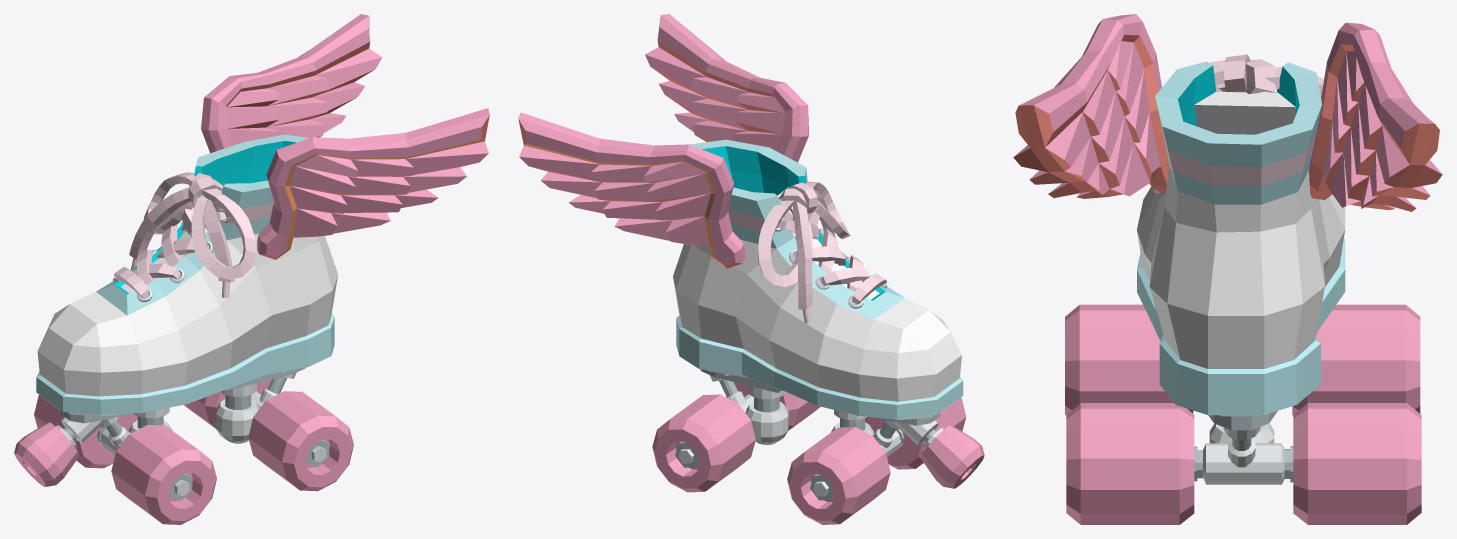
The model's file is roller_skate_with_wings.glb.
The picture shows the model from 3 angles, left to right: view 1: azimuth 30°, elevation 25°; view 2: azimuth 150°, elevation 25°; view 3: azimuth 270°, elevation 25°; orthographic projection. The views are drawn at different scales.
Parts seen in each view (by area): view 1: mesh_1109177091_material_21___651_0, mesh_1398213399_material_7___651_0, mesh_629732502_material_7___651_0, mesh_1109177091_material_3___651_0, mesh_1619868426_material_7___651_0, mesh_802483144_material_7___651_0, mesh_1107867113_material_6___651_0, mesh_1730448082_material_7___651_0, mesh_1109177091_material_4___651_0, mesh_991260271_material_7___651_0, mesh_629732502_material_8___651_0, mesh_1271087452_material_15___651_0 (+9 smaller); view 2: mesh_1109177091_material_21___651_0, mesh_629732502_material_7___651_0, mesh_1398213399_material_7___651_0, mesh_1109177091_material_3___651_0, mesh_1668995057_material_7___651_0, mesh_991260271_material_7___651_0, mesh_1109177091_material_4___651_0, mesh_1730448082_material_7___651_0, mesh_943479247_material_6___651_0, mesh_802483144_material_7___651_0, mesh_1271087452_material_15___651_0, mesh_591993997_material_6___651_0 (+8 smaller); view 3: mesh_1109177091_material_21___651_0, mesh_1109177091_material_3___651_0, mesh_1668995057_material_7___651_0, mesh_1619868426_material_7___651_0, mesh_1398213399_material_7___651_0, mesh_629732502_material_7___651_0, mesh_991260271_material_7___651_0, mesh_802483144_material_7___651_0, mesh_629732502_material_8___651_0, mesh_1398213399_material_8___651_0, mesh_1999533418_material_15___651_0, mesh_1109177091_material_6___651_0 (+8 smaller).
Part boxes in pixels (x1,y1,x2,y2): mesh_1109177091_material_21___651_0: (37,179,338,396); mesh_1398213399_material_7___651_0: (257,108,489,257); mesh_629732502_material_7___651_0: (201,14,382,153); mesh_1109177091_material_3___651_0: (36,134,334,414); mesh_1619868426_material_7___651_0: (248,391,353,491); mesh_802483144_material_7___651_0: (111,425,216,524); mesh_1107867113_material_6___651_0: (191,188,256,279); mesh_1730448082_material_7___651_0: (14,422,79,486); mesh_1109177091_material_4___651_0: (115,141,296,294); mesh_991260271_material_7___651_0: (34,394,137,468); mesh_629732502_material_8___651_0: (226,17,374,137); mesh_1271087452_material_15___651_0: (216,383,259,441); mesh_1109177091_material_21___651_0: (673,187,961,401); mesh_629732502_material_7___651_0: (518,112,746,265); mesh_1398213399_material_7___651_0: (645,14,808,162); mesh_1109177091_material_3___651_0: (676,139,963,419); mesh_1668995057_material_7___651_0: (652,394,755,492); mesh_991260271_material_7___651_0: (787,427,890,524); mesh_1109177091_material_4___651_0: (702,146,885,300); mesh_1730448082_material_7___651_0: (920,425,984,488); mesh_943479247_material_6___651_0: (758,198,812,286); mesh_802483144_material_7___651_0: (865,397,966,469); mesh_1271087452_material_15___651_0: (745,385,788,442); mesh_591993997_material_6___651_0: (792,201,812,309); mesh_1109177091_material_21___651_0: (1137,91,1345,368); mesh_1109177091_material_3___651_0: (1137,61,1345,415); mesh_1668995057_material_7___651_0: (1293,403,1421,524); mesh_1619868426_material_7___651_0: (1066,403,1194,524); mesh_1398213399_material_7___651_0: (1014,14,1161,196); mesh_629732502_material_7___651_0: (1309,22,1442,208); mesh_991260271_material_7___651_0: (1292,304,1420,415); mesh_802483144_material_7___651_0: (1065,304,1193,414); mesh_629732502_material_8___651_0: (1309,44,1442,211); mesh_1398213399_material_8___651_0: (1013,34,1169,198); mesh_1999533418_material_15___651_0: (1197,443,1284,484); mesh_1109177091_material_6___651_0: (1161,125,1317,185).
Bounding box in the file's own units: 240 × 199 × 147.
